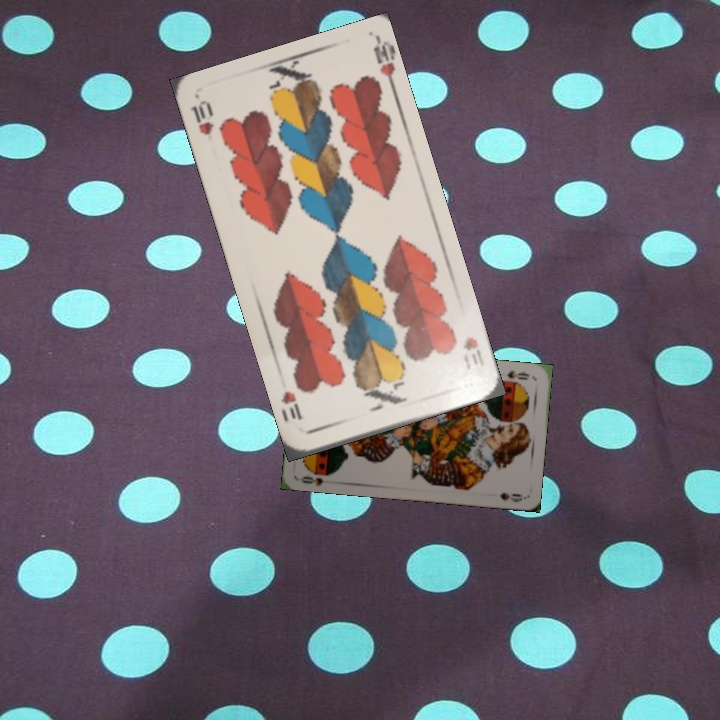H10: (185, 96, 216, 138), (458, 332, 487, 373)
SO: (503, 366, 532, 383), (297, 472, 326, 488)
